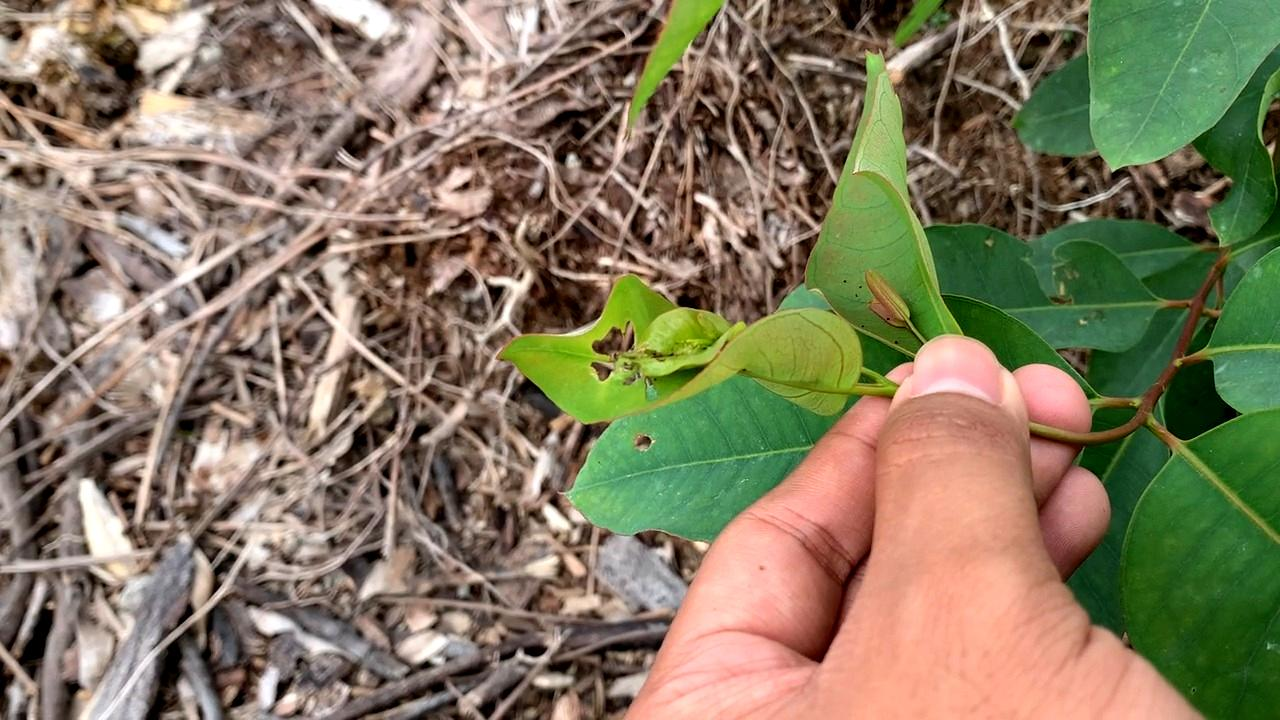Leaf Roller - Leaf: (496, 267, 856, 440)
